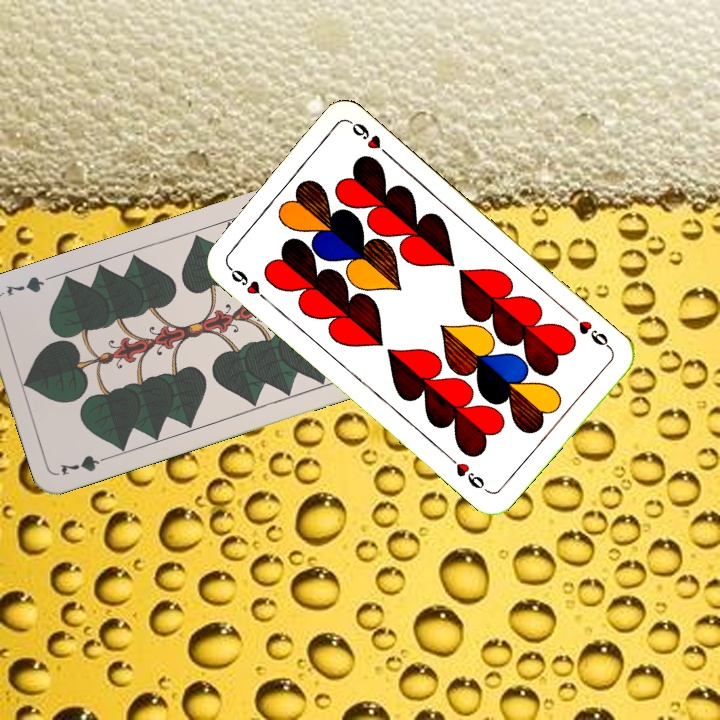G7: (56, 450, 115, 478)
H9: (223, 260, 272, 304), (565, 309, 614, 352)
